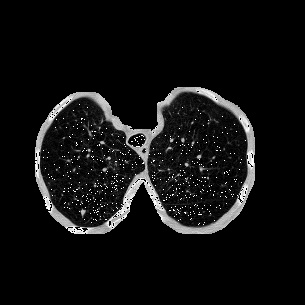PN: (78, 208, 86, 216)
